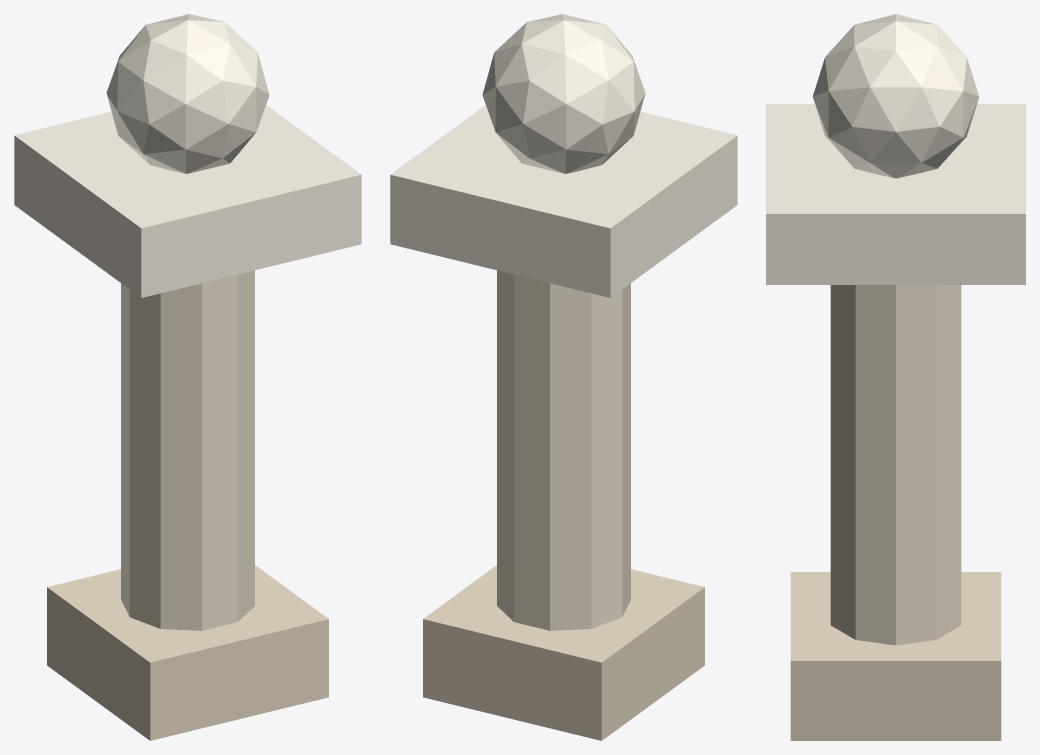
File: Pillar_Square.glb
3 renders of one model, left to right at view 1: azimuth 30°, elevation 25°; view 2: azimuth 150°, elevation 25°; view 3: azimuth 270°, elevation 25°, orthographic. The views are drawn at different scales.
Parts seen in each view (by area): view 1: shaft_1, cap_2, base_0, finial_3; view 2: shaft_1, cap_2, base_0, finial_3; view 3: shaft_1, cap_2, base_0, finial_3.
Part boxes in pixels (x1,y1,x2,y2): shaft_1: (121,270,254,630); cap_2: (14,105,361,297); base_0: (47,565,328,740); finial_3: (106,14,269,173); shaft_1: (497,270,630,630); cap_2: (390,105,737,297); base_0: (423,565,704,740); finial_3: (482,14,645,173); shaft_1: (830,285,961,645); cap_2: (766,104,1025,284); base_0: (790,572,1001,740); finial_3: (812,14,979,178).
Size of the model in its own units: 0.53 by 1.52 by 0.53.
